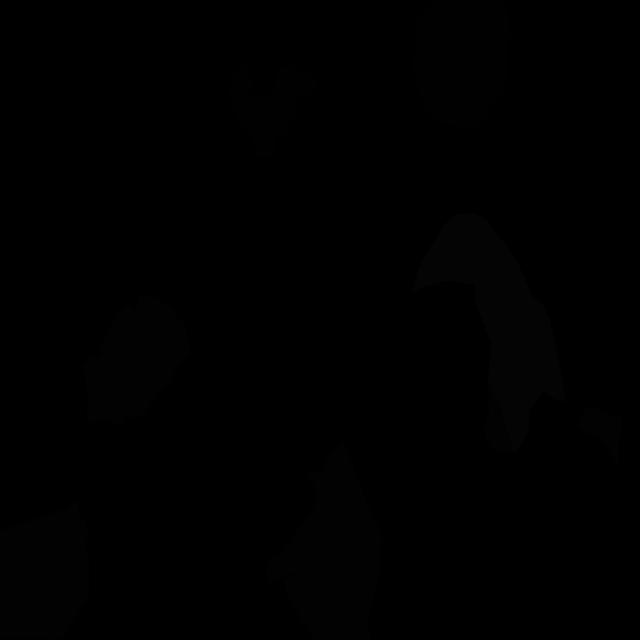cardboard: (282, 442, 384, 640), (82, 294, 190, 424), (0, 499, 90, 639), (266, 448, 351, 584), (578, 407, 623, 466), (484, 383, 511, 455)
rigid_plastic: (412, 0, 510, 131), (228, 62, 319, 158)
soft_plastic: (412, 213, 566, 452)
